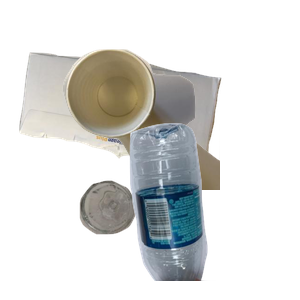glass: (77, 178, 205, 300)
paper: (17, 50, 231, 230)
plastic: (127, 120, 300, 300)
trash: (60, 47, 300, 227)
